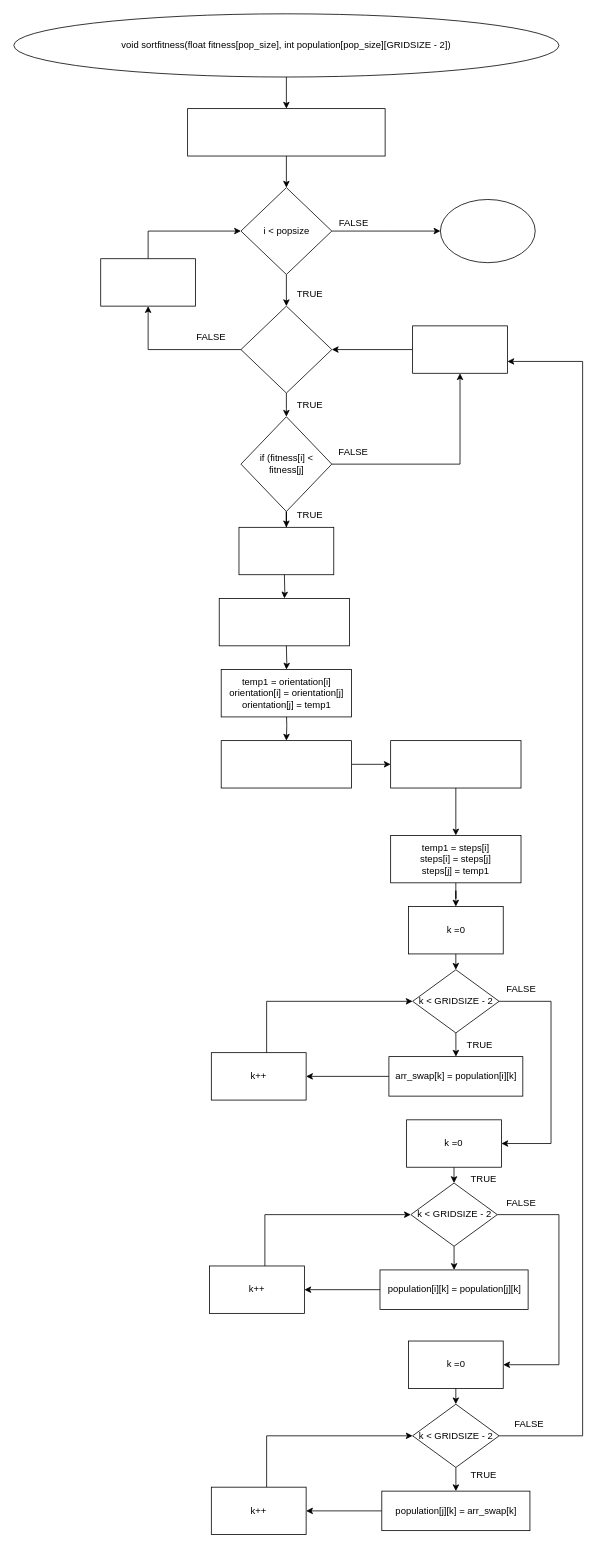
The diagram is 603 pixels wide and 1548 high, and some of its shapes have lost their labels. The shapes that lost their labels are listed below. From the top down, each one's centre as x and y in pixels, then its label:
At [286,132]: "int temp1 =0, arr_swap[GRIDSIZE -2], i=0, j=0, k =0".
At [487,231]: "EXIT".
At [148,282]: "i++".
At [286,349]: "j < popsize".
At [459,349]: "j++".
At [286,551]: "temp1 = fitness[i] fitness[i] = fitness[j] fitness[j] = temp1".
At [284,622]: "temp1 = direction[i] direction[i] = direction[j] direction[j] = temp1".
At [286,764]: "temp1 = inf[i] inf[i] = inf[j] inf[j] = temp1".
At [455,764]: "temp1 = turns[i] turns[i] = turns[j] turns[j] = temp1".
